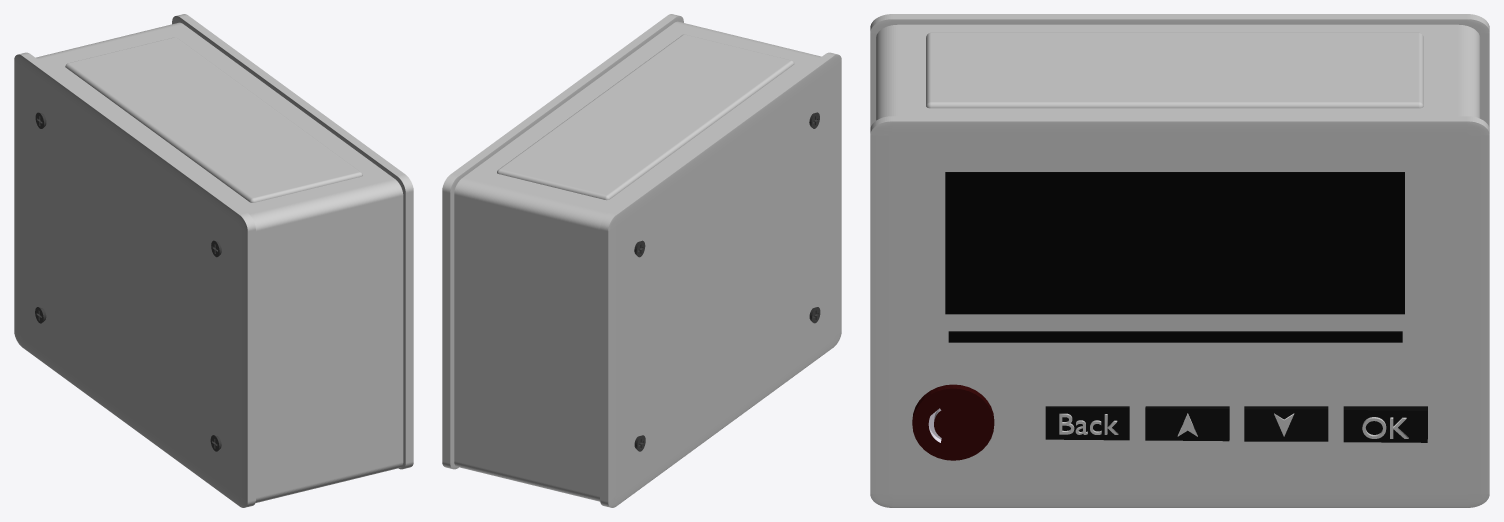
3 views of the same model, side by side, from view 1: azimuth 30°, elevation 25°; view 2: azimuth 150°, elevation 25°; view 3: azimuth 270°, elevation 25° (orthographic). The views are drawn at different scales.
Parts seen in each view (by area): view 1: Zadnja, Notranjost, Zvocnik, Prednja; view 2: Zadnja, Notranjost, Zvocnik, Prednja; view 3: Prednja, Ekran, Zvocnik, Notranjost, Zadnja, LED_trak, Power_Button, DOWN_Button, UP_Button, OK_Button, BACK_Button.
Part boxes in pixels (<box>): Zadnja: <box>14,52,255,507</box>; Notranjost: <box>36,22,403,502</box>; Zvocnik: <box>65,37,362,202</box>; Prednja: <box>172,14,413,469</box>; Zadnja: <box>600,52,841,507</box>; Notranjost: <box>454,21,821,501</box>; Zvocnik: <box>497,34,794,200</box>; Prednja: <box>442,14,683,469</box>; Prednja: <box>870,116,1489,507</box>; Ekran: <box>945,172,1404,314</box>; Zvocnik: <box>926,32,1423,108</box>; Notranjost: <box>876,24,1480,120</box>; Zadnja: <box>870,14,1489,127</box>; LED_trak: <box>948,331,1402,342</box>; Power_Button: <box>912,384,994,460</box>; DOWN_Button: <box>1244,406,1328,441</box>; UP_Button: <box>1145,406,1229,441</box>; OK_Button: <box>1343,406,1427,442</box>; BACK_Button: <box>1045,406,1129,440</box>.
Bounding box in the file's own units: 0.066 × 0.1026 × 0.149.
